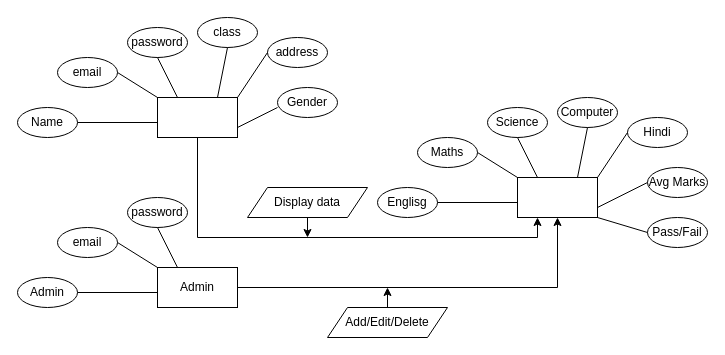
This 725x355 diagram has some shape labels left out. Here are the shapes that lost their labels. From the top down, the centre of each, then its label:
(x=197, y=117): Student
(x=557, y=197): Subject
